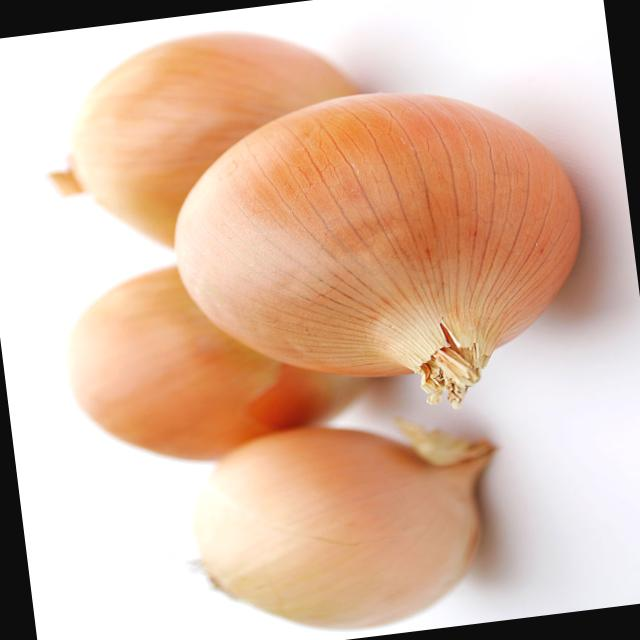onion: (157, 66, 609, 426), (28, 10, 372, 258), (173, 395, 511, 640), (45, 236, 378, 479)
